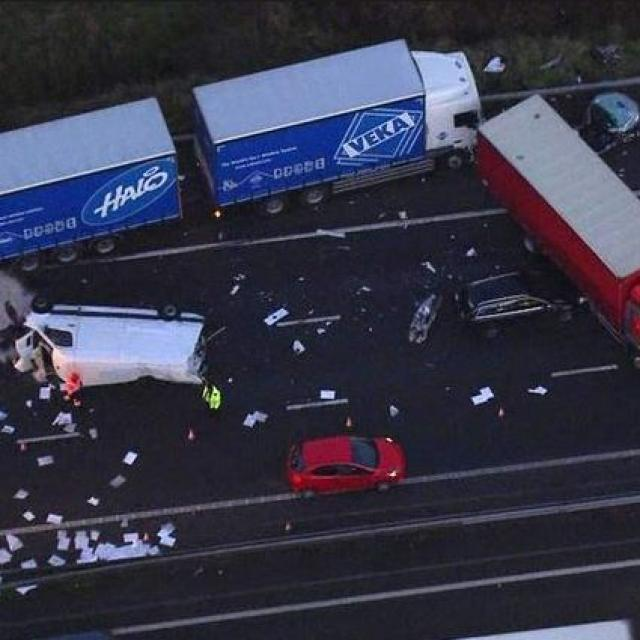traffic_incident: (14, 289, 212, 408), (441, 250, 613, 345)
